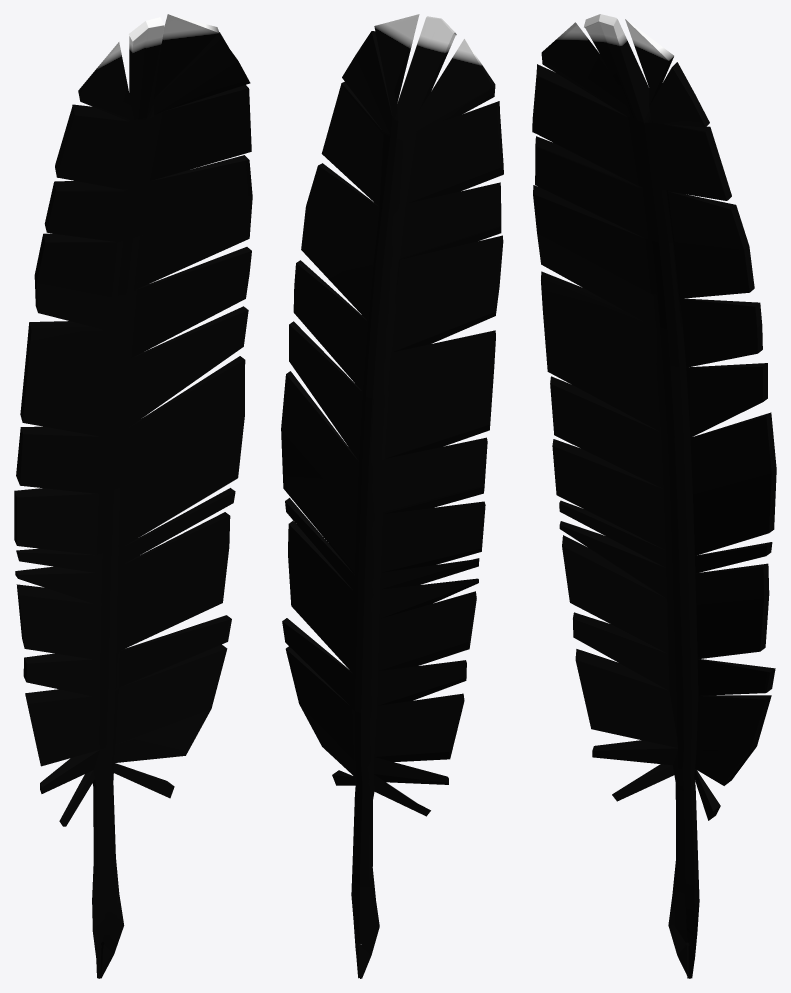
The model's file is Tribute_Feather.fbx.
3 renders of one model, left to right at view 1: azimuth 30°, elevation 25°; view 2: azimuth 150°, elevation 25°; view 3: azimuth 330°, elevation 25°, orthographic. The views are drawn at different scales.
Visible parts, largest first — view 1: feather:pCylinder2; view 2: feather:pCylinder2; view 3: feather:pCylinder2.
Boxes of the visible parts, x1,y1,x2,y2 form: feather:pCylinder2: [14, 14, 252, 978]; feather:pCylinder2: [281, 14, 503, 978]; feather:pCylinder2: [532, 14, 776, 978].
Size of the model in its own units: 1.11 by 4.79 by 0.6176.
